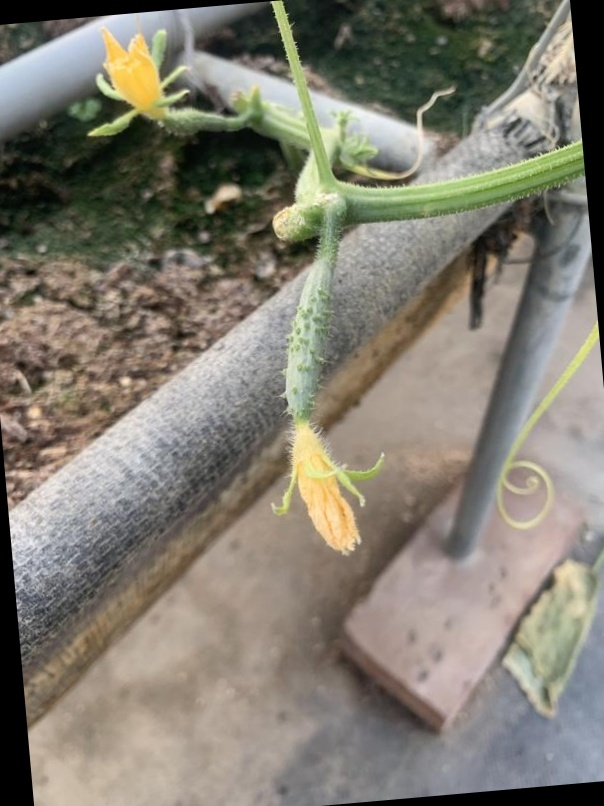bear: (251, 232, 378, 563), (89, 30, 231, 148)
